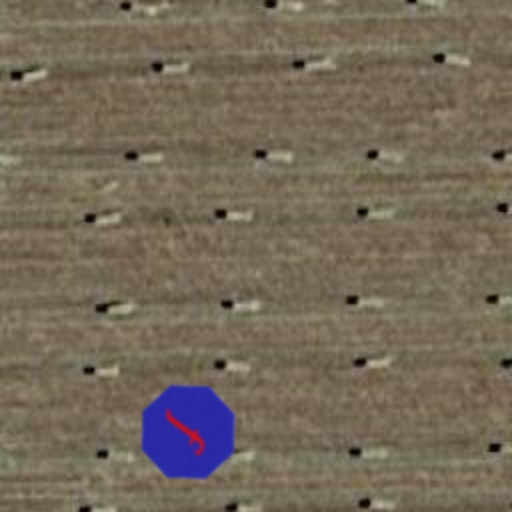octagon: (120, 364, 256, 500)
